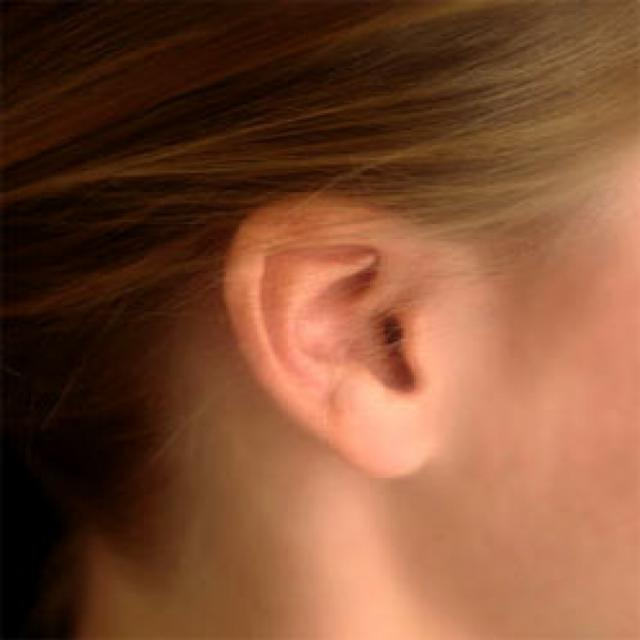earlobe: (225, 194, 436, 480)
